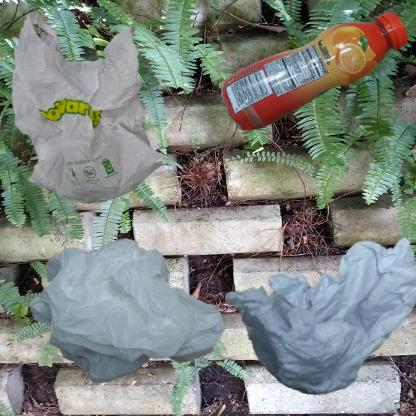bolsa: (10, 213, 272, 416), (10, 10, 166, 206)
botella: (213, 10, 416, 142)
papel: (213, 213, 416, 412)
